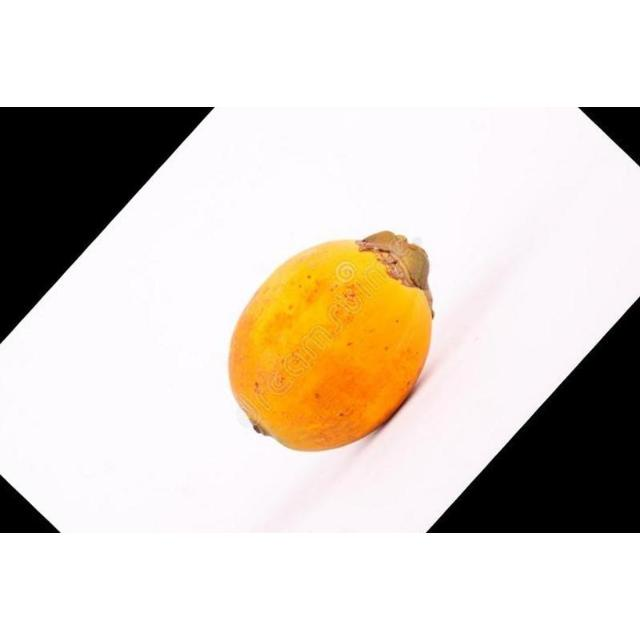good: (226, 232, 435, 454)
